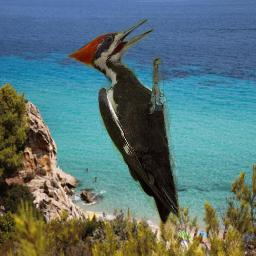Woodpecker: (66, 18, 179, 225)
